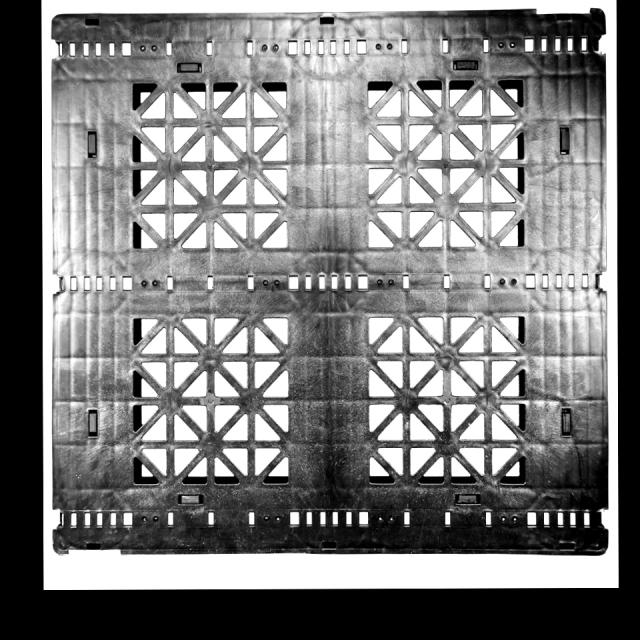non-igps: (48, 5, 613, 560)
